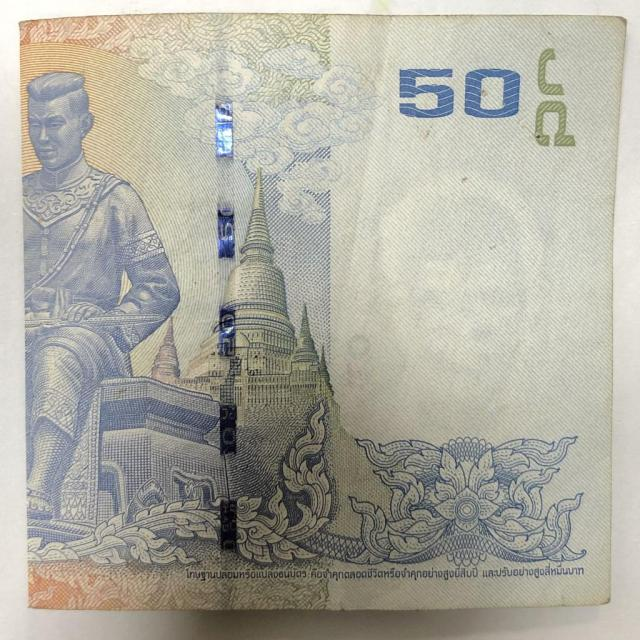THAI50: (20, 13, 625, 609)
